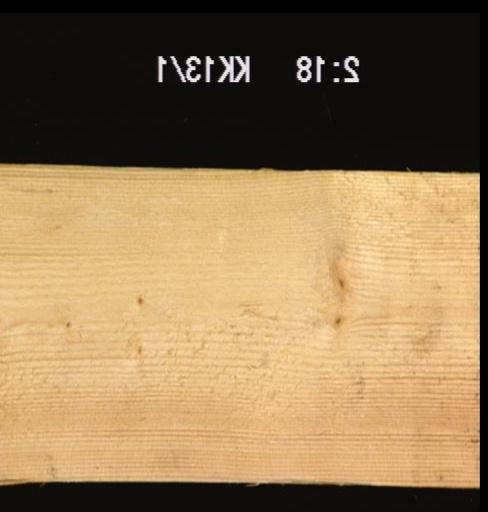small_knot: (323, 263, 356, 296), (319, 308, 351, 336), (53, 311, 80, 336), (126, 332, 151, 357), (125, 289, 150, 308)
